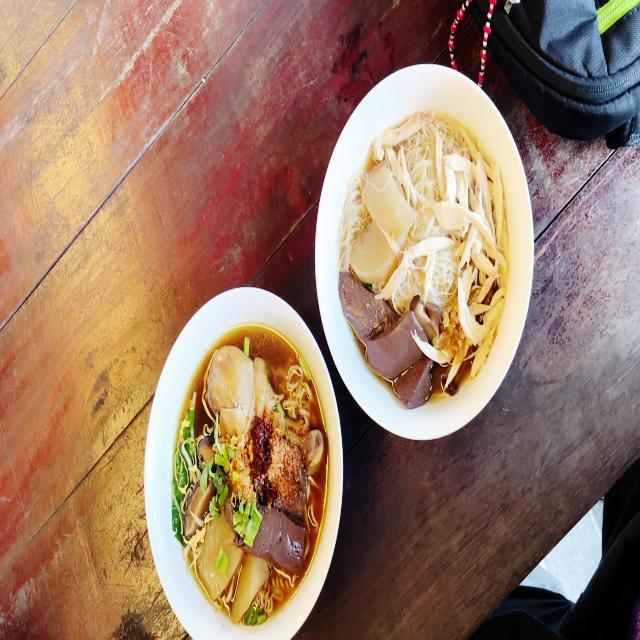boiled_chicken_blood_jelly: (336, 269, 394, 342), (367, 314, 421, 379), (258, 512, 307, 570), (401, 361, 434, 410), (293, 458, 307, 515)
chicken_drumstick: (204, 347, 322, 468)
chicken_shredded: (436, 129, 506, 258), (448, 252, 509, 372)
daikon_radish: (354, 162, 404, 287), (198, 518, 242, 596), (241, 562, 264, 607)
noodle: (353, 118, 497, 382), (180, 347, 323, 603)
